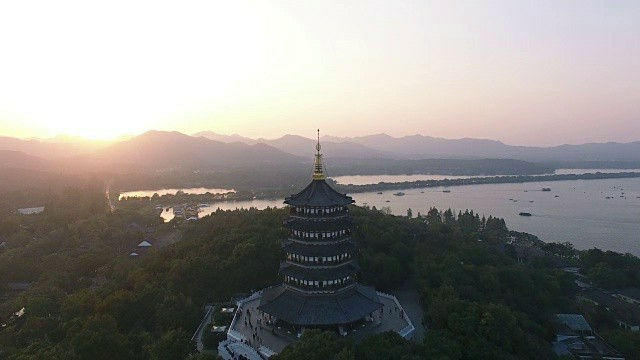Leifeng: (256, 127, 387, 341)
